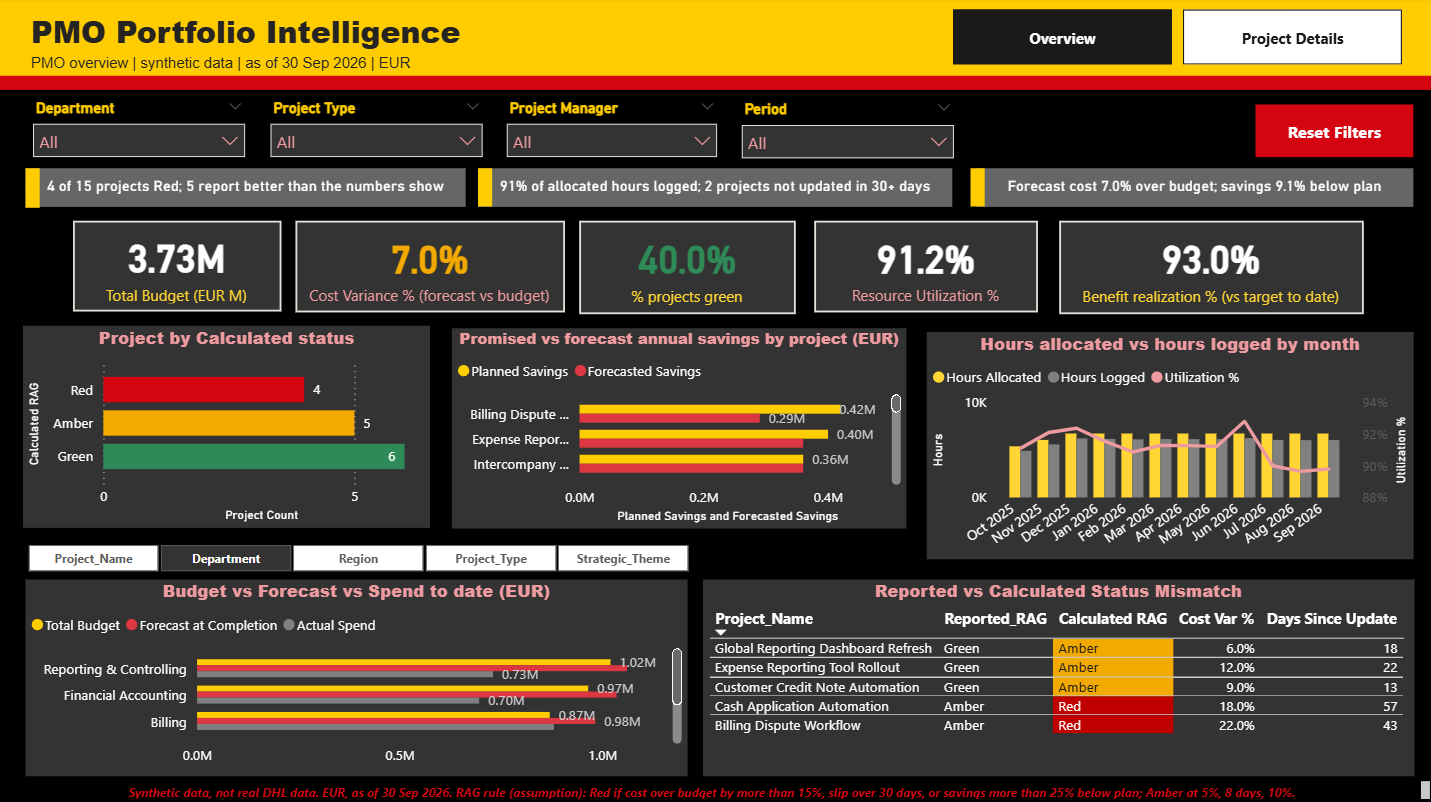

The dashboard page shown, as its layout file describes it:
{"tool":"powerbi","page":{"name":"Overview","canvas":[1280,720],"ordinal":0},"visuals":[{"type":"slicer","title":"Breakdown By","fields":{"Values":["Breakdown By.Breakdown By"]},"box":[1.5,480.7,637.9,37.8],"z":0},{"type":"shape","box":[0,0,1280.3,70.6],"z":1000},{"type":"shape","box":[0,70.6,1280.3,12.6],"z":2000},{"type":"textbox","box":[24,6.3,688.7,70.6],"z":3000},{"type":"slicer","fields":{"Values":["Projects.Department"]},"box":[20.6,85.7,210.6,58],"z":4000},{"type":"slicer","fields":{"Values":["Projects.Project_Type"]},"box":[231.2,85.7,210.6,58],"z":5000},{"type":"slicer","fields":{"Values":["Projects.Project_Manager"]},"box":[441.8,85.7,209.4,58],"z":6000},{"type":"slicer","fields":{"Values":["DateTable.Month Name"]},"box":[651.2,86.9,210.6,58],"z":7000},{"type":"actionButton","box":[1120.1,95.2,140.6,46.9],"z":8000},{"type":"card","fields":{"Values":["Measurez.Insight 1"]},"box":[24.2,152.4,392.3,34.1],"z":9000},{"type":"card","fields":{"Values":["Measurez.Insight 2"]},"box":[427.8,152.4,422.5,34.1],"z":10000},{"type":"card","fields":{"Values":["Measurez.Insight 3"]},"box":[871.6,152.6,388.5,34.1],"z":11000},{"type":"card","fields":{"Values":["Measurez.Total Budget"]},"box":[67.1,199.5,185.4,80.7],"z":12000},{"type":"card","fields":{"Values":["Measurez.Cost Variance %"]},"box":[265.1,199.5,239.7,82],"z":13000},{"type":"card","fields":{"Values":["Measurez.% Green"]},"box":[517.4,199.5,193,83.2],"z":14000},{"type":"card","fields":{"Values":["Measurez.Utilization %"]},"box":[726.8,199.5,199.3,82],"z":15000},{"type":"card","fields":{"Values":["Measurez.Benefit Realization %"]},"box":[944.7,199.5,271.2,83.2],"z":16000},{"type":"clusteredBarChart","title":"Project by Calculated status","fields":{"Category":["Projects.Calculated RAG"],"Y":["Measurez.Project Count"]},"box":[22.7,293.2,362.8,179.9],"z":17000},{"type":"tableEx","title":"Reported vs Calculated Status Mismatch","fields":{"Values":["Projects.Project_Name","Projects.Reported_RAG","Projects.Calculated RAG","Projects.Cost Var %","Projects.Days Since Update"]},"box":[627.3,518.5,633.4,175.3],"z":18000},{"type":"clusteredBarChart","title":"Budget vs Forecast vs Spend to date (EUR)","fields":{"Category":["Projects.Region"],"Y":["Measurez.Total Budget","Measurez.Forecast at Completion","Measurez.Actual Spend"]},"box":[24.2,518.5,589.5,175.3],"z":19000},{"type":"lineClusteredColumnComboChart","title":"Hours allocated vs hours logged by month","fields":{"Y":["Sum(Monthly.Hours_Allocated)","Sum(Monthly.Hours_Logged)"],"Y2":["Measurez.Utilization %"],"Category":["DateTable.Month Name"]},"box":[826.8,297.8,433.8,202.6],"z":20000},{"type":"clusteredBarChart","title":"Promised vs forecast annual savings by project (EUR)","fields":{"Category":["Projects.Project_Name"],"Y":["Measurez.Planned Savings","Measurez.Forecast Savings"]},"box":[403.6,294.8,405.1,178.4],"z":21000},{"type":"textbox","box":[0,693.7,1280.3,26.5],"z":22000},{"type":"shape","box":[24.2,152.4,12.6,35.3],"z":23000},{"type":"shape","box":[865.5,152.4,12.6,34.1],"z":24000},{"type":"shape","box":[427.8,152.4,12.6,34.1],"z":25000},{"type":"pageNavigator","box":[851,10.6,400.6,49.9],"z":26000}]}

Visuals, with their boxes in screenshot pixels (x1, y1, x2, y2), scaled from the page's 1280x720 canvas onto the 1431x802 screenshot:
"Breakdown By" slicer: (x1=2, y1=535, x2=715, y2=578)
shape: (x1=0, y1=0, x2=1430, y2=79)
shape: (x1=0, y1=79, x2=1430, y2=93)
textbox: (x1=27, y1=7, x2=797, y2=86)
slicer - Projects.Department: (x1=23, y1=95, x2=258, y2=160)
slicer - Projects.Project_Type: (x1=258, y1=95, x2=494, y2=160)
slicer - Projects.Project_Manager: (x1=494, y1=95, x2=728, y2=160)
slicer - DateTable.Month Name: (x1=728, y1=97, x2=963, y2=161)
actionButton: (x1=1252, y1=106, x2=1409, y2=158)
card - Measurez.Insight 1: (x1=27, y1=170, x2=466, y2=208)
card - Measurez.Insight 2: (x1=478, y1=170, x2=951, y2=208)
card - Measurez.Insight 3: (x1=974, y1=170, x2=1409, y2=208)
card - Measurez.Total Budget: (x1=75, y1=222, x2=282, y2=312)
card - Measurez.Cost Variance %: (x1=296, y1=222, x2=564, y2=314)
card - Measurez.% Green: (x1=578, y1=222, x2=794, y2=315)
card - Measurez.Utilization %: (x1=813, y1=222, x2=1035, y2=314)
card - Measurez.Benefit Realization %: (x1=1056, y1=222, x2=1359, y2=315)
"Project by Calculated status" clusteredBarChart: (x1=25, y1=327, x2=431, y2=527)
"Reported vs Calculated Status Mismatch" tableEx: (x1=701, y1=578, x2=1409, y2=773)
"Budget vs Forecast vs Spend to date (EUR)" clusteredBarChart: (x1=27, y1=578, x2=686, y2=773)
"Hours allocated vs hours logged by month" lineClusteredColumnComboChart: (x1=924, y1=332, x2=1409, y2=557)
"Promised vs forecast annual savings by project (EUR)" clusteredBarChart: (x1=451, y1=328, x2=904, y2=527)
textbox: (x1=0, y1=773, x2=1430, y2=801)
shape: (x1=27, y1=170, x2=41, y2=209)
shape: (x1=968, y1=170, x2=982, y2=208)
shape: (x1=478, y1=170, x2=492, y2=208)
pageNavigator: (x1=951, y1=12, x2=1399, y2=67)
